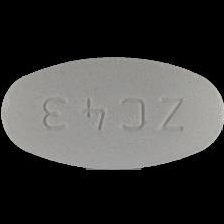33261-953: (0, 0, 224, 224)
